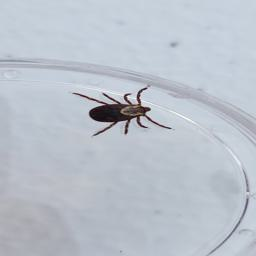Dermacentor variabilis: (72, 85, 169, 138)
